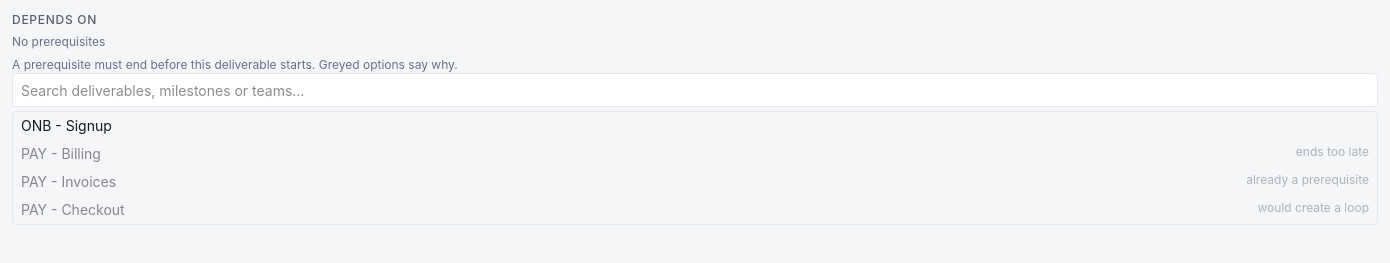
Test case: REQ_DEP_003/020 dependencies field › REQ_DEP_003 a 409 cycle on pick is shown inline naming the loop
Click the option "ONB - Signup".
click(36, 126)  # box [13, 112, 1377, 140]
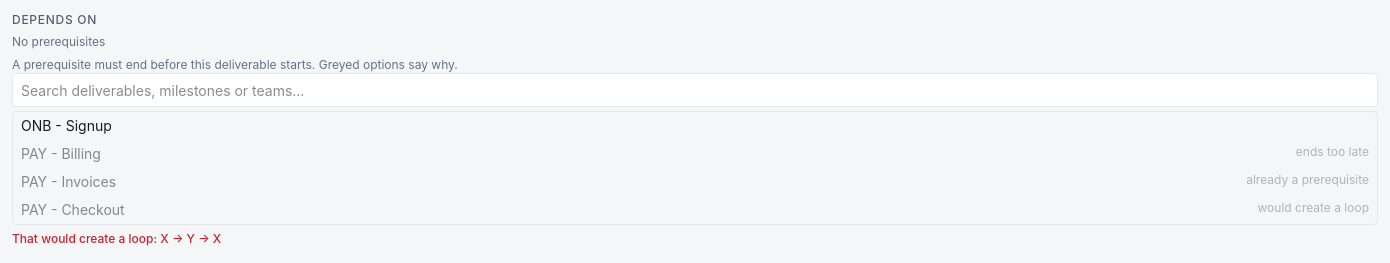
Result: the message shows "X → Y → X" at [12, 231, 221, 246]
